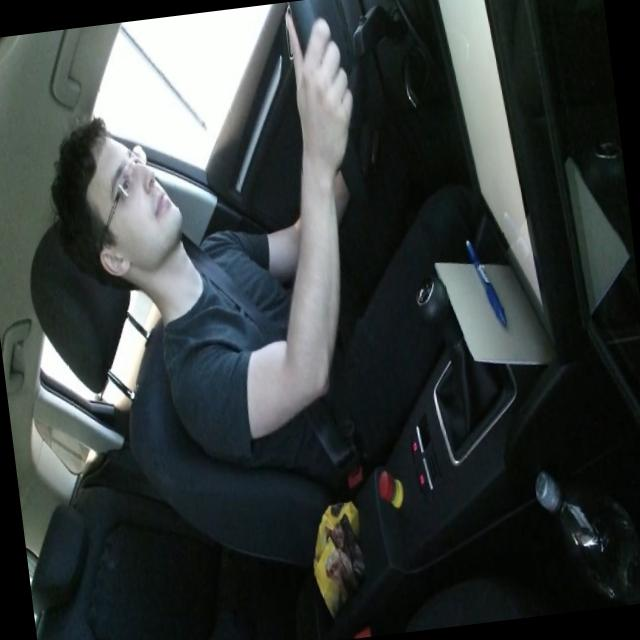pen: (463, 232, 507, 331)
